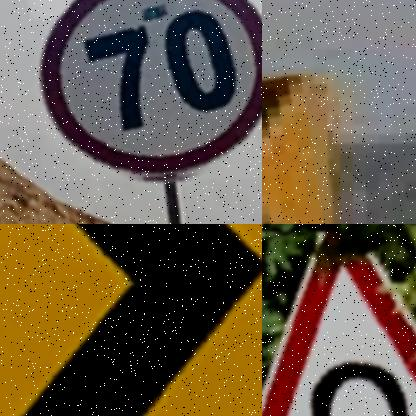Left bend: (262, 75, 333, 224)
Sharp Right Turn: (0, 224, 262, 416)
Speed Limit -70 kmph-: (41, 0, 262, 178)
U-Turn: (262, 232, 416, 416)
